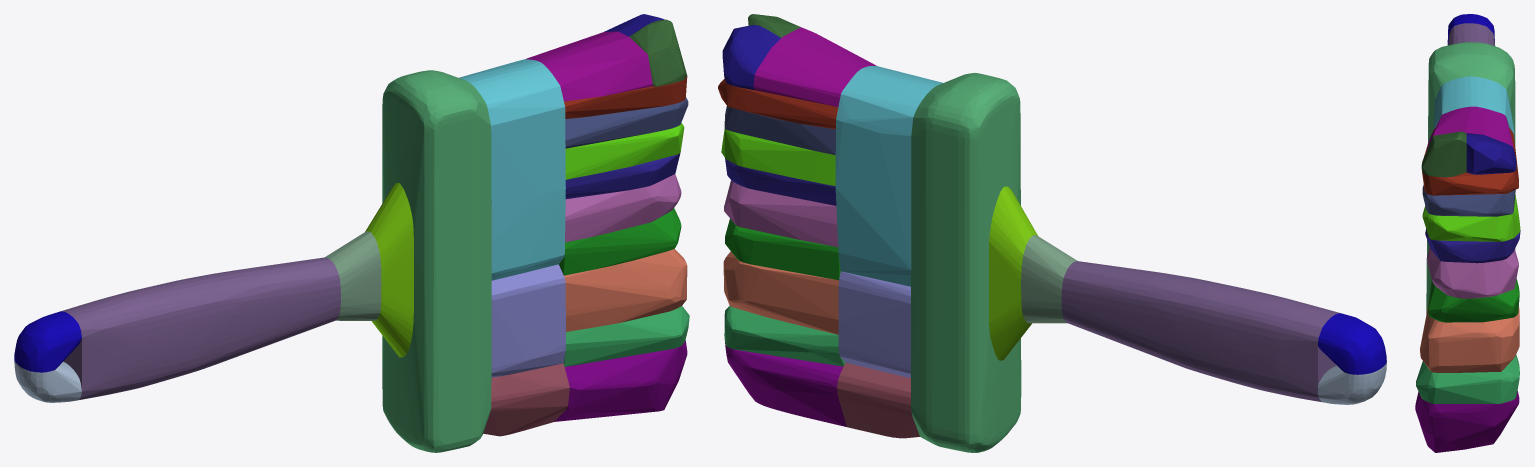
Rendered from blue_brush.obj.
3 views of the same model, side by side, from view 1: azimuth 30°, elevation 25°; view 2: azimuth 150°, elevation 25°; view 3: azimuth 270°, elevation 25° (orthographic). The views are drawn at different scales.
Parts seen in each view (by area): view 1: geometry_3, geometry_1, geometry_2, geometry_12, geometry_9, geometry_11, geometry_14, geometry_4, geometry_13, geometry_7, geometry_10, geometry_8 (+8 smaller); view 2: geometry_3, geometry_1, geometry_2, geometry_12, geometry_9, geometry_11, geometry_14, geometry_4, geometry_13, geometry_7, geometry_10, geometry_8 (+9 smaller); view 3: geometry_9, geometry_11, geometry_3, geometry_10, geometry_7, geometry_8, geometry_17, geometry_2, geometry_15, geometry_16, geometry_14, geometry_18 (+4 smaller).
Boxes of the visible parts, <box> form: geometry_3: <box>382,70,491,452</box>; geometry_1: <box>61,257,340,399</box>; geometry_2: <box>459,59,565,280</box>; geometry_12: <box>491,264,565,377</box>; geometry_9: <box>564,249,687,331</box>; geometry_11: <box>554,340,687,421</box>; geometry_14: <box>526,31,652,101</box>; geometry_4: <box>365,183,413,357</box>; geometry_13: <box>483,363,569,436</box>; geometry_7: <box>565,174,681,242</box>; geometry_10: <box>563,306,689,366</box>; geometry_8: <box>559,208,681,275</box>; geometry_3: <box>911,73,1021,452</box>; geometry_1: <box>1061,261,1340,401</box>; geometry_2: <box>835,66,942,286</box>; geometry_12: <box>838,271,910,378</box>; geometry_9: <box>723,251,839,334</box>; geometry_11: <box>725,342,846,426</box>; geometry_14: <box>753,27,876,106</box>; geometry_4: <box>989,186,1037,360</box>; geometry_13: <box>837,362,919,438</box>; geometry_7: <box>724,180,838,247</box>; geometry_10: <box>724,306,845,366</box>; geometry_8: <box>725,218,840,280</box>; geometry_9: <box>1420,302,1519,372</box>; geometry_11: <box>1415,391,1519,452</box>; geometry_3: <box>1426,42,1515,313</box>; geometry_10: <box>1416,354,1519,403</box>; geometry_7: <box>1427,247,1518,298</box>; geometry_8: <box>1428,278,1519,322</box>; geometry_17: <box>1422,194,1520,241</box>; geometry_2: <box>1433,76,1514,137</box>; geometry_15: <box>1421,127,1518,195</box>; geometry_16: <box>1422,185,1515,216</box>; geometry_14: <box>1426,106,1513,150</box>; geometry_18: <box>1425,206,1520,263</box>.
Size of the model in its own units: 0.3017 by 0.1669 by 0.0491.
